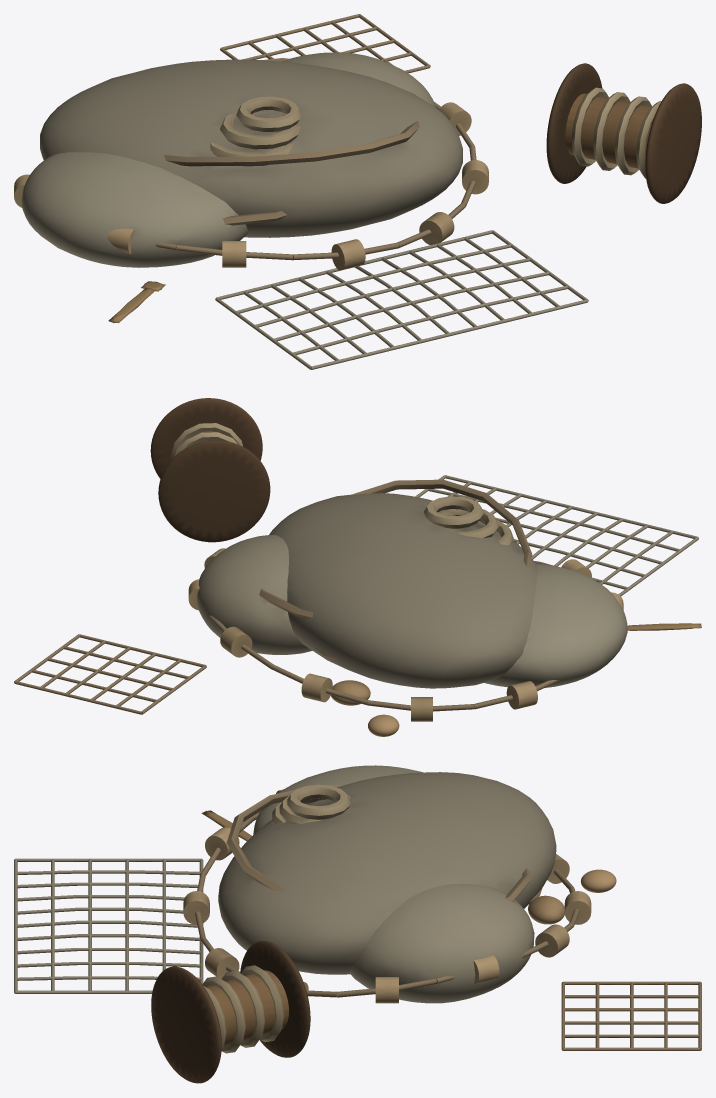
File: net_hoard_b.glb
3 renders of one model, top to bottom at view 1: azimuth 30°, elevation 25°; view 2: azimuth 150°, elevation 25°; view 3: azimuth 270°, elevation 25°, orthographic. The views are drawn at different scales.
Visible parts, largest first — view 1: Surface; view 2: Surface; view 3: Surface.
Boxes of the visible parts, bbox=[...] form: Surface: bbox=[14, 14, 701, 369]; Surface: bbox=[14, 398, 701, 736]; Surface: bbox=[14, 765, 701, 1083].
Bounding box in the file's own units: 6.93 × 1.48 × 7.04.
